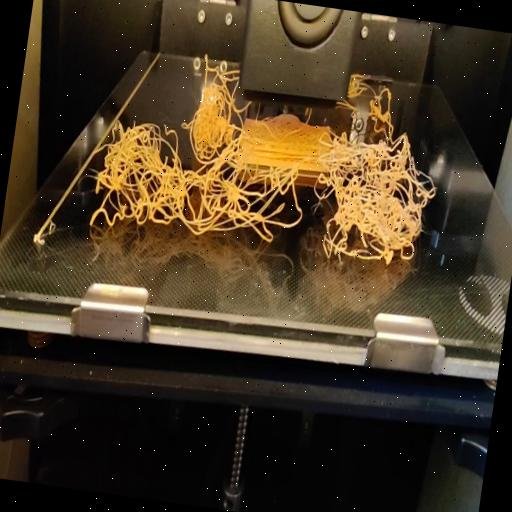spaghetti: (82, 78, 443, 280), (344, 69, 400, 119), (196, 54, 244, 98)
